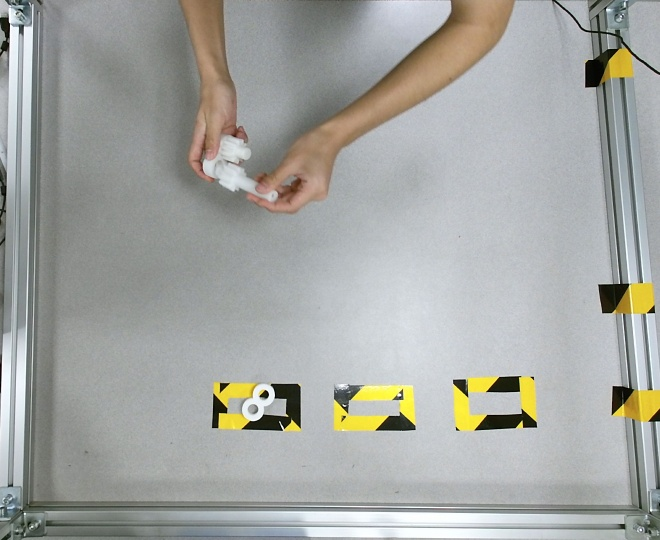stage_2: (202, 134, 250, 178)
